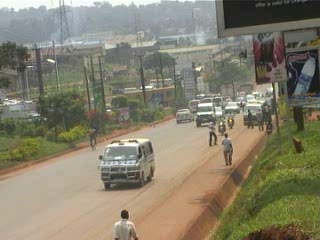Car: (192, 101, 217, 125), (176, 105, 197, 124), (223, 101, 242, 114), (213, 104, 224, 119)
Motorcycle: (215, 114, 227, 135), (226, 112, 236, 133)
